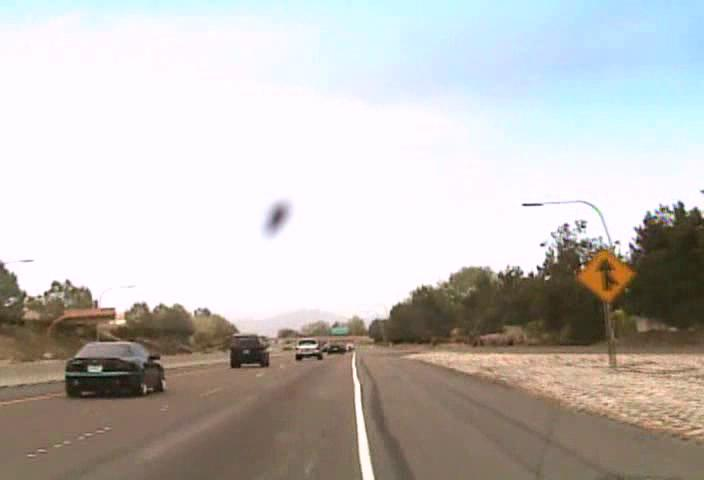merge: (577, 247, 637, 303)
